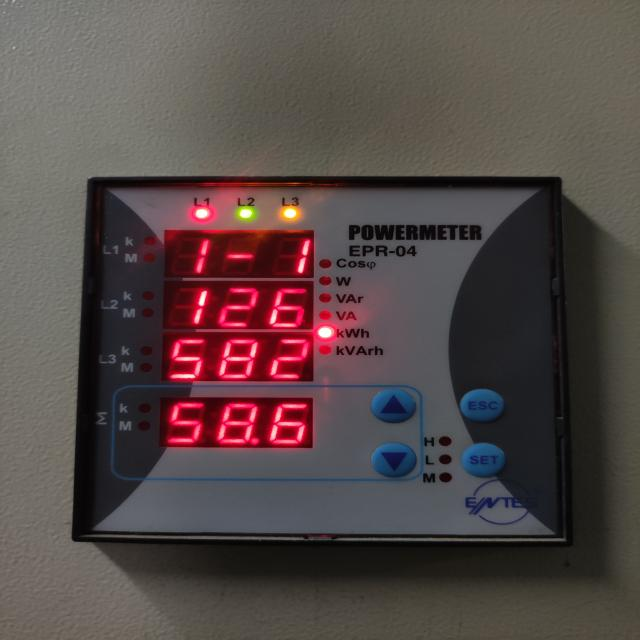display: (162, 396, 312, 449), (166, 230, 313, 278), (166, 282, 311, 330), (161, 335, 315, 379)
frame: (168, 400, 308, 445), (171, 285, 308, 330), (166, 336, 309, 379), (175, 235, 313, 278), (396, 244, 419, 258), (112, 243, 122, 257), (109, 298, 119, 312), (290, 195, 301, 207), (246, 196, 257, 207), (202, 196, 212, 207), (107, 354, 117, 365)
gauge: (72, 177, 577, 550)
